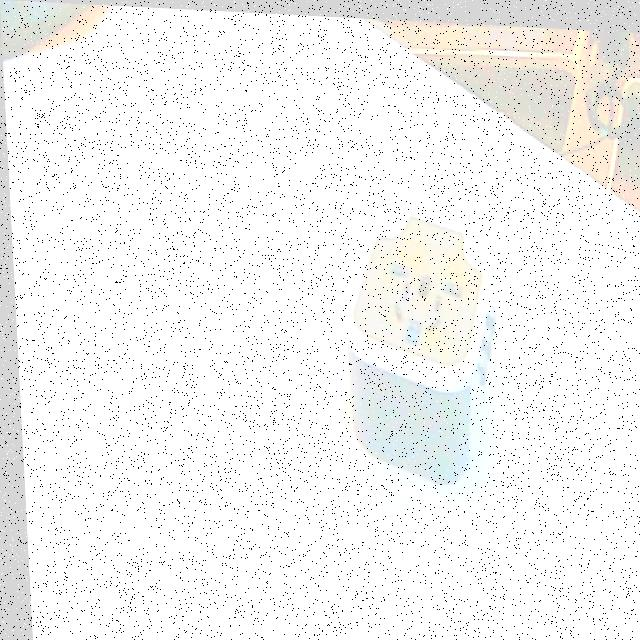adapter: (334, 199, 501, 483)
